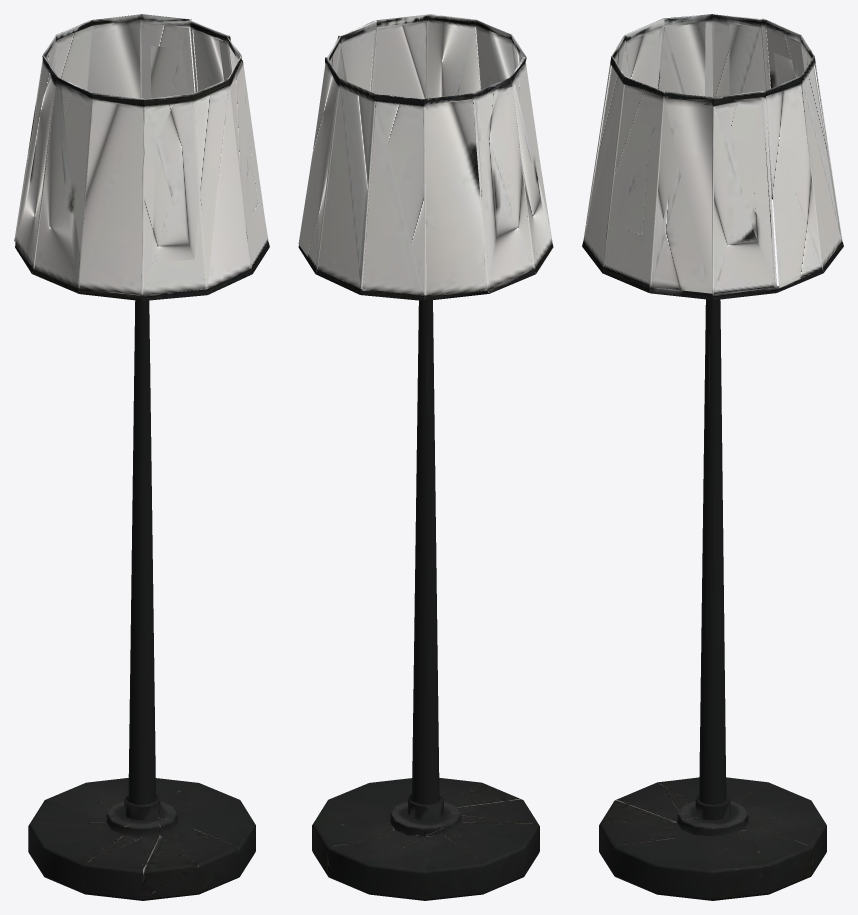
The model's file is floor-lamp.glb.
3 views of the same model, side by side, from view 1: azimuth 30°, elevation 25°; view 2: azimuth 150°, elevation 25°; view 3: azimuth 270°, elevation 25° (orthographic).
Bounding box in the file's own units: 0.2749 × 0.9517 × 0.2827.
1 material, 1 textured.
